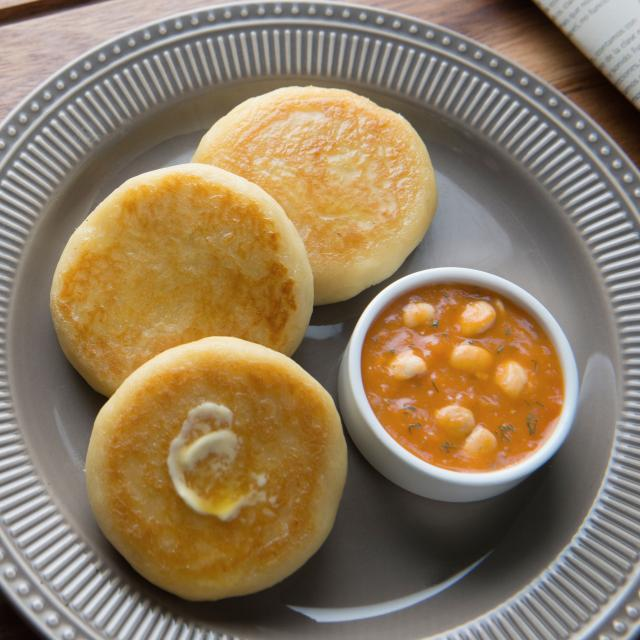arepa: (80, 336, 358, 609)
garbanzos: (360, 280, 564, 478)
